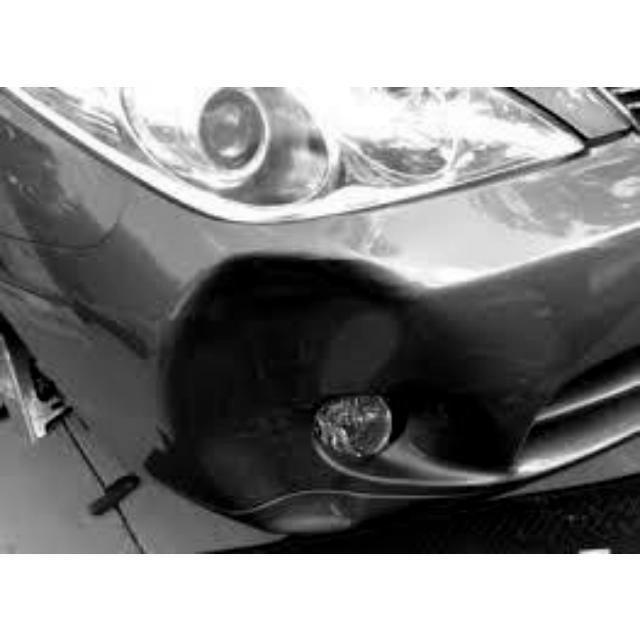front-bumper-dent: (3, 191, 638, 551)
